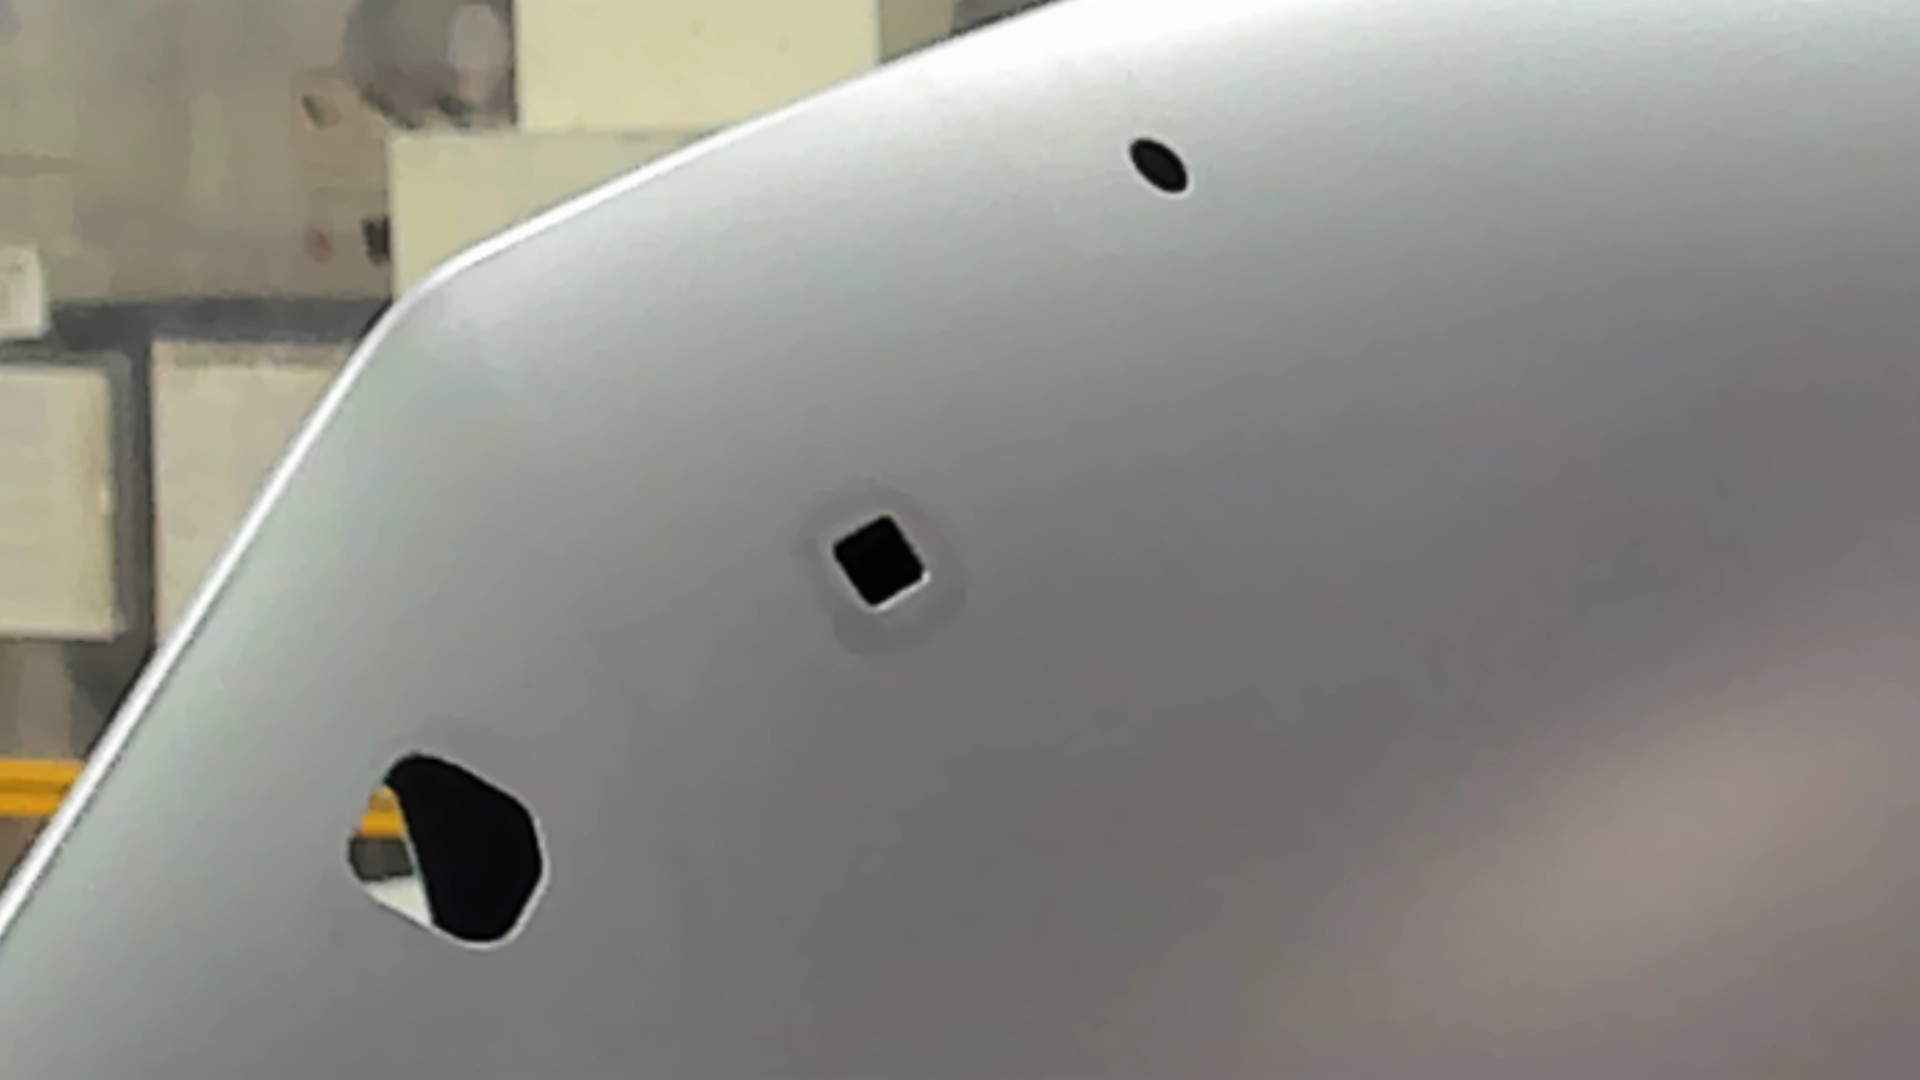chico: (1125, 132, 1193, 196)
grande: (338, 746, 556, 956)
mediano: (823, 510, 932, 615)
